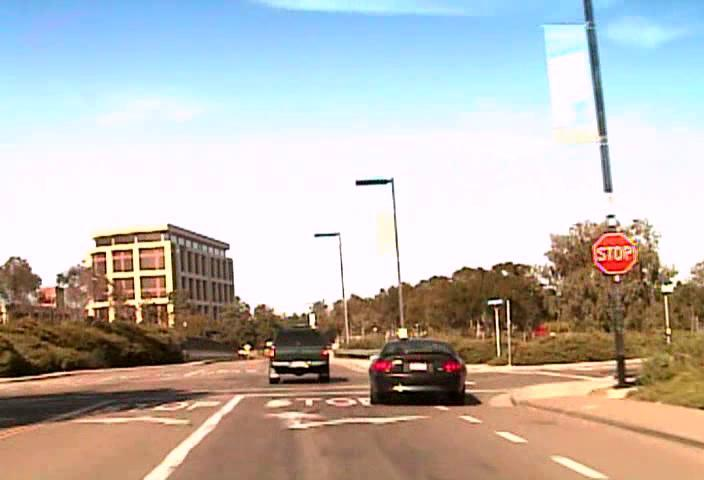stop: (591, 231, 638, 274)
